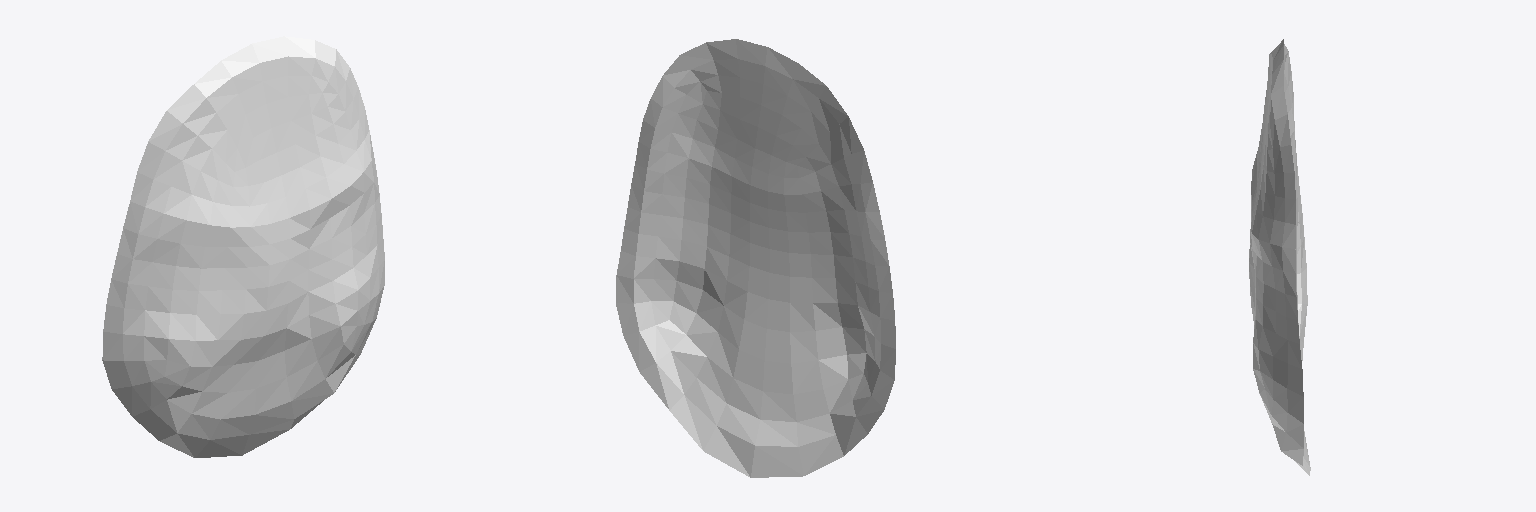
The model's file is mask2.obj.
3 renders of one model, left to right at view 1: azimuth 30°, elevation 25°; view 2: azimuth 150°, elevation 25°; view 3: azimuth 270°, elevation 25°, orthographic.
Visible parts, largest first — view 1: Volume16; view 2: Volume16; view 3: Volume16.
Boxes of the visible parts, <box> form: Volume16: <box>102,36,384,457</box>; Volume16: <box>616,39,895,477</box>; Volume16: <box>1249,39,1310,475</box>.
Bounding box in the file's own units: 50.27 × 72.21 × 9.52.